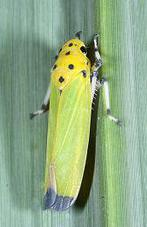pest: (37, 38, 96, 211)
